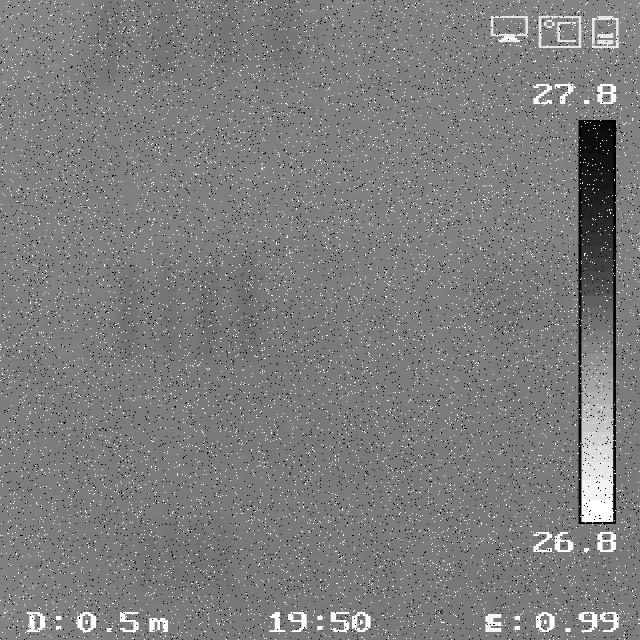Indistinguishable 4-bar target: (93, 4, 312, 78), (144, 519, 247, 586)
threshold 4-bar target: (117, 261, 268, 357)
